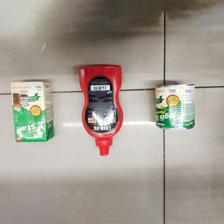Chinsu: (77, 63, 124, 156)
NSPN_Hop: (10, 78, 55, 145)
NSPN_Lon: (154, 82, 197, 131)
